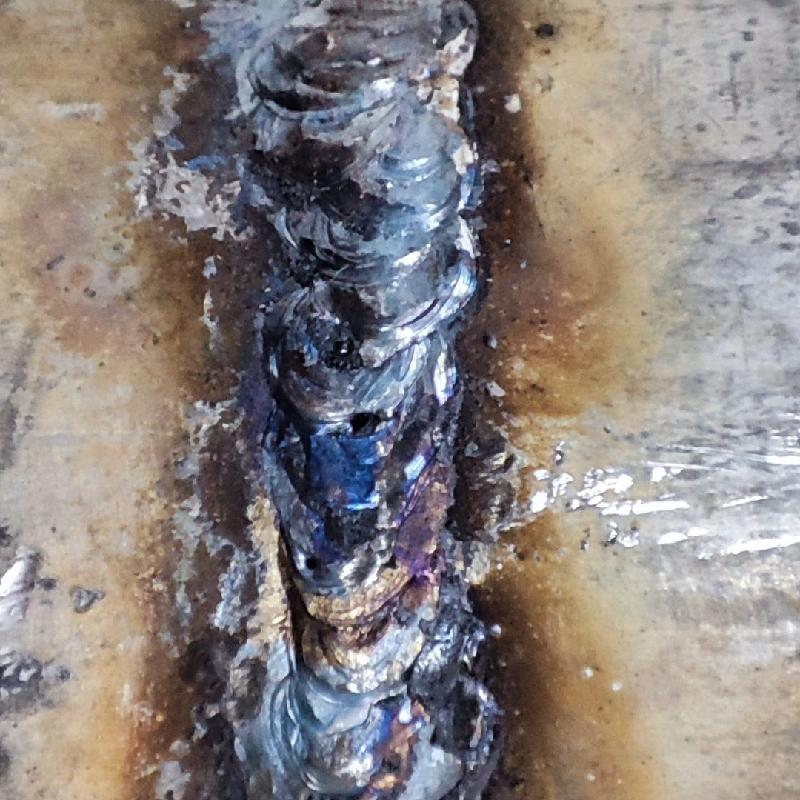Surface_pores: (285, 507, 368, 578), (333, 400, 391, 447), (273, 219, 327, 265)
